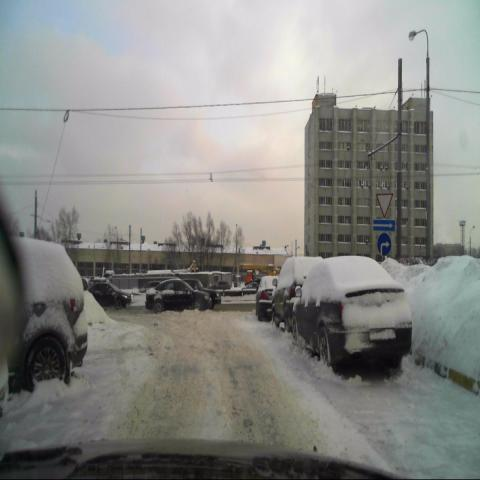5_7_1: (374, 220, 394, 231)
